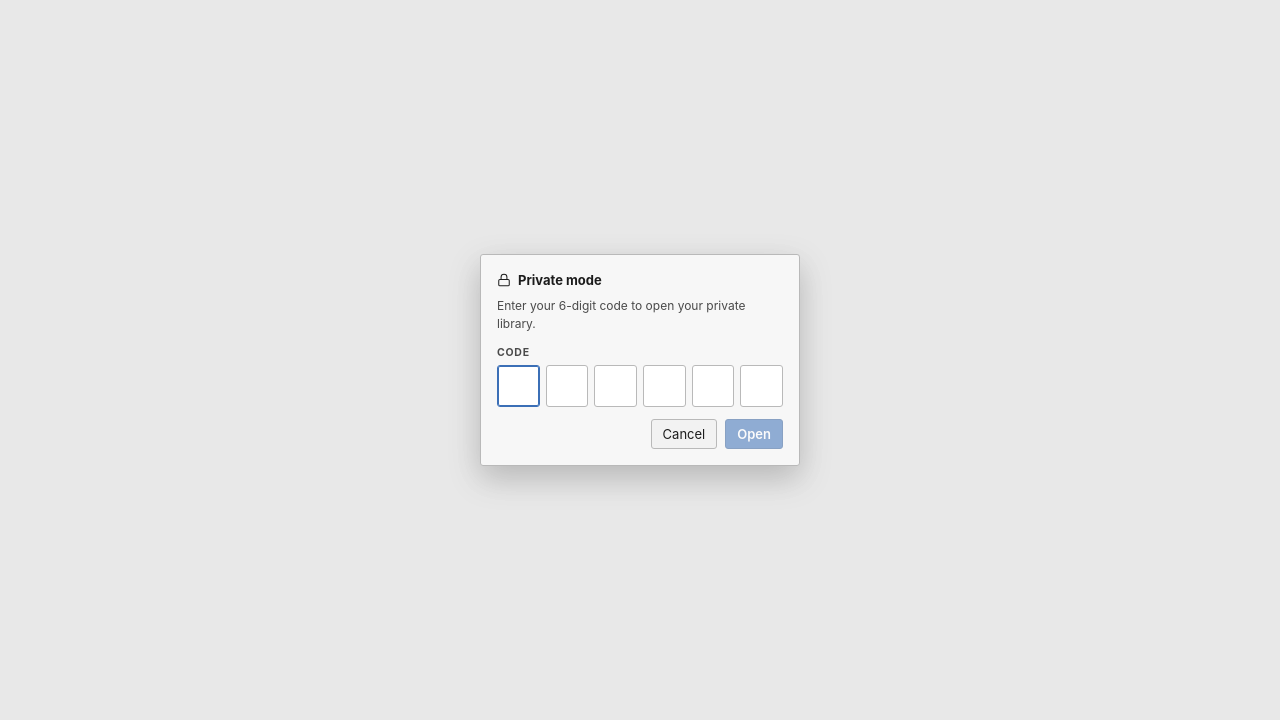
VaultPrompt unlock › shows the error, clears the code and puts the caret back on the first box
The image size is (1280, 720).
Type keys "111111"
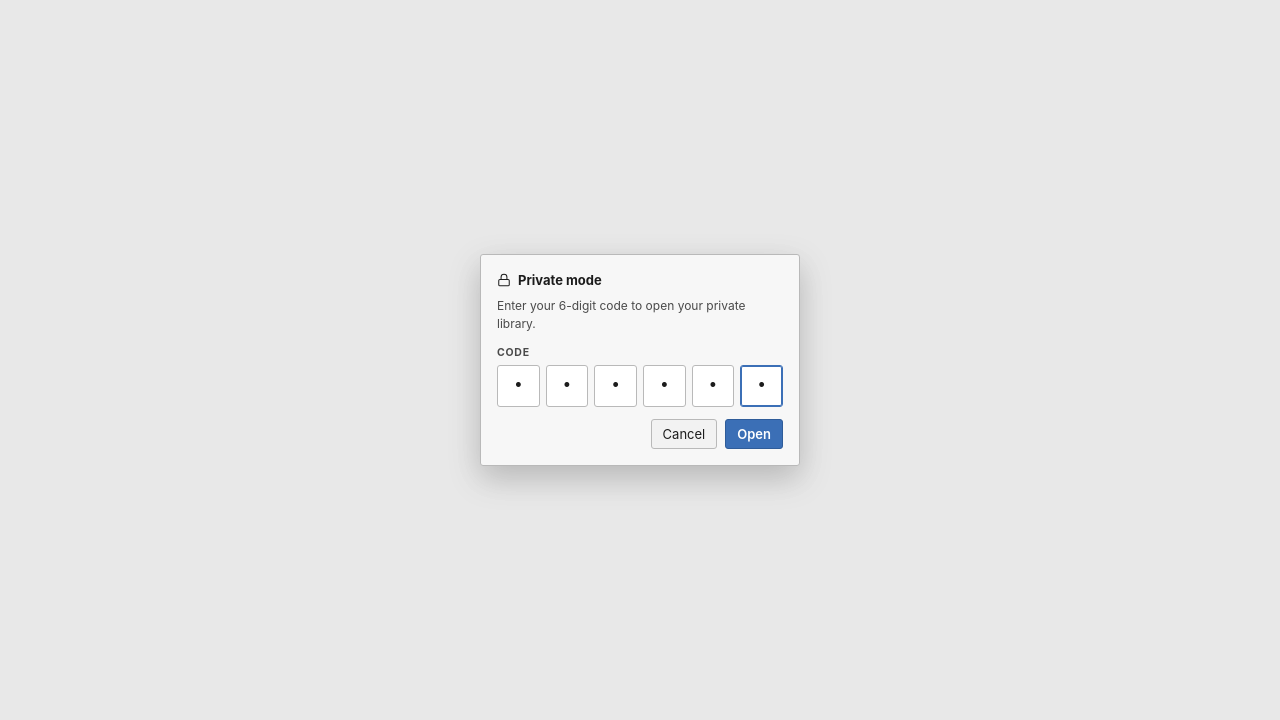
Click the button "Open": (754, 434) [725,419,783,449]
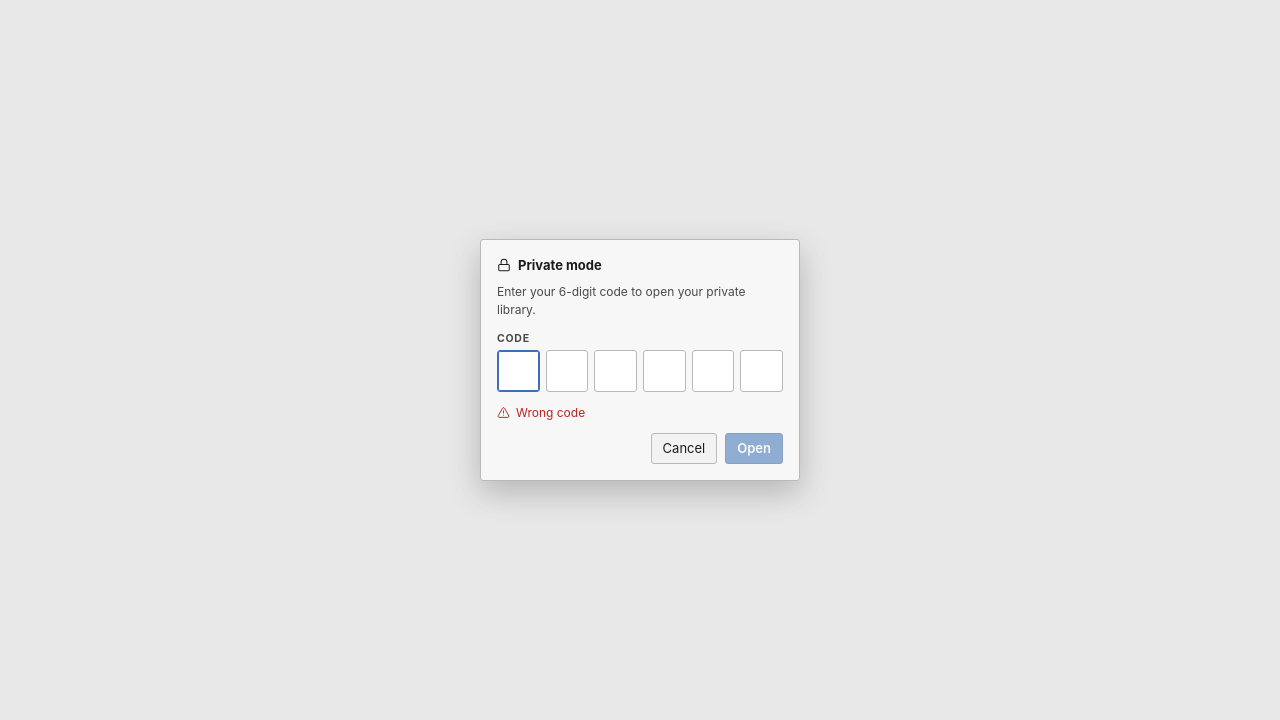
Check: the message reads "Wrong code", box [516,405,585,420]
Check: the password field labelled "Code" is empty, box [497,350,540,392]
